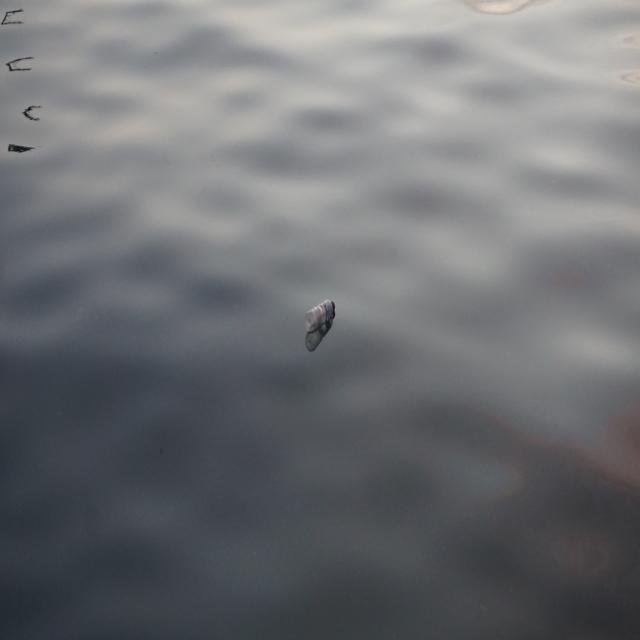Botol Plastik: (303, 293, 340, 338)
